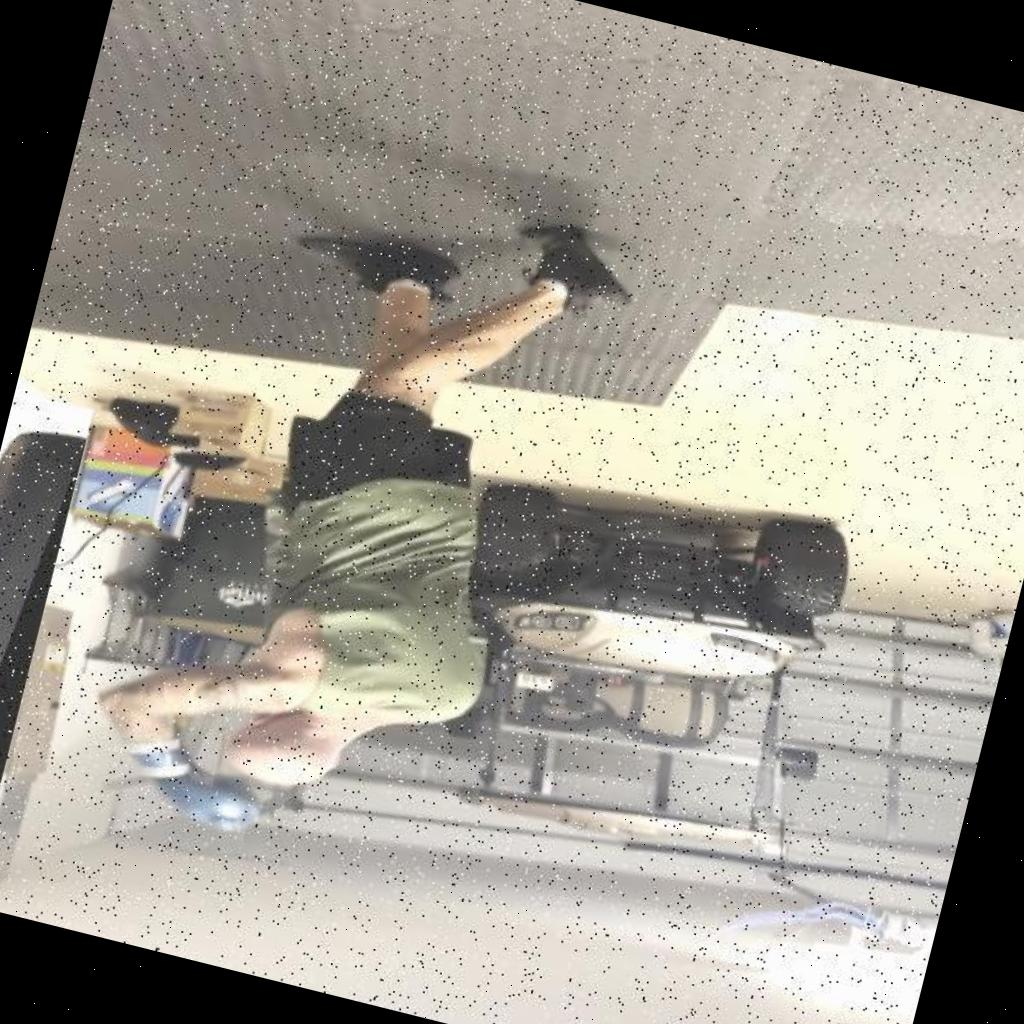bag: (0, 389, 93, 904)
uppercut: (44, 496, 553, 926)
